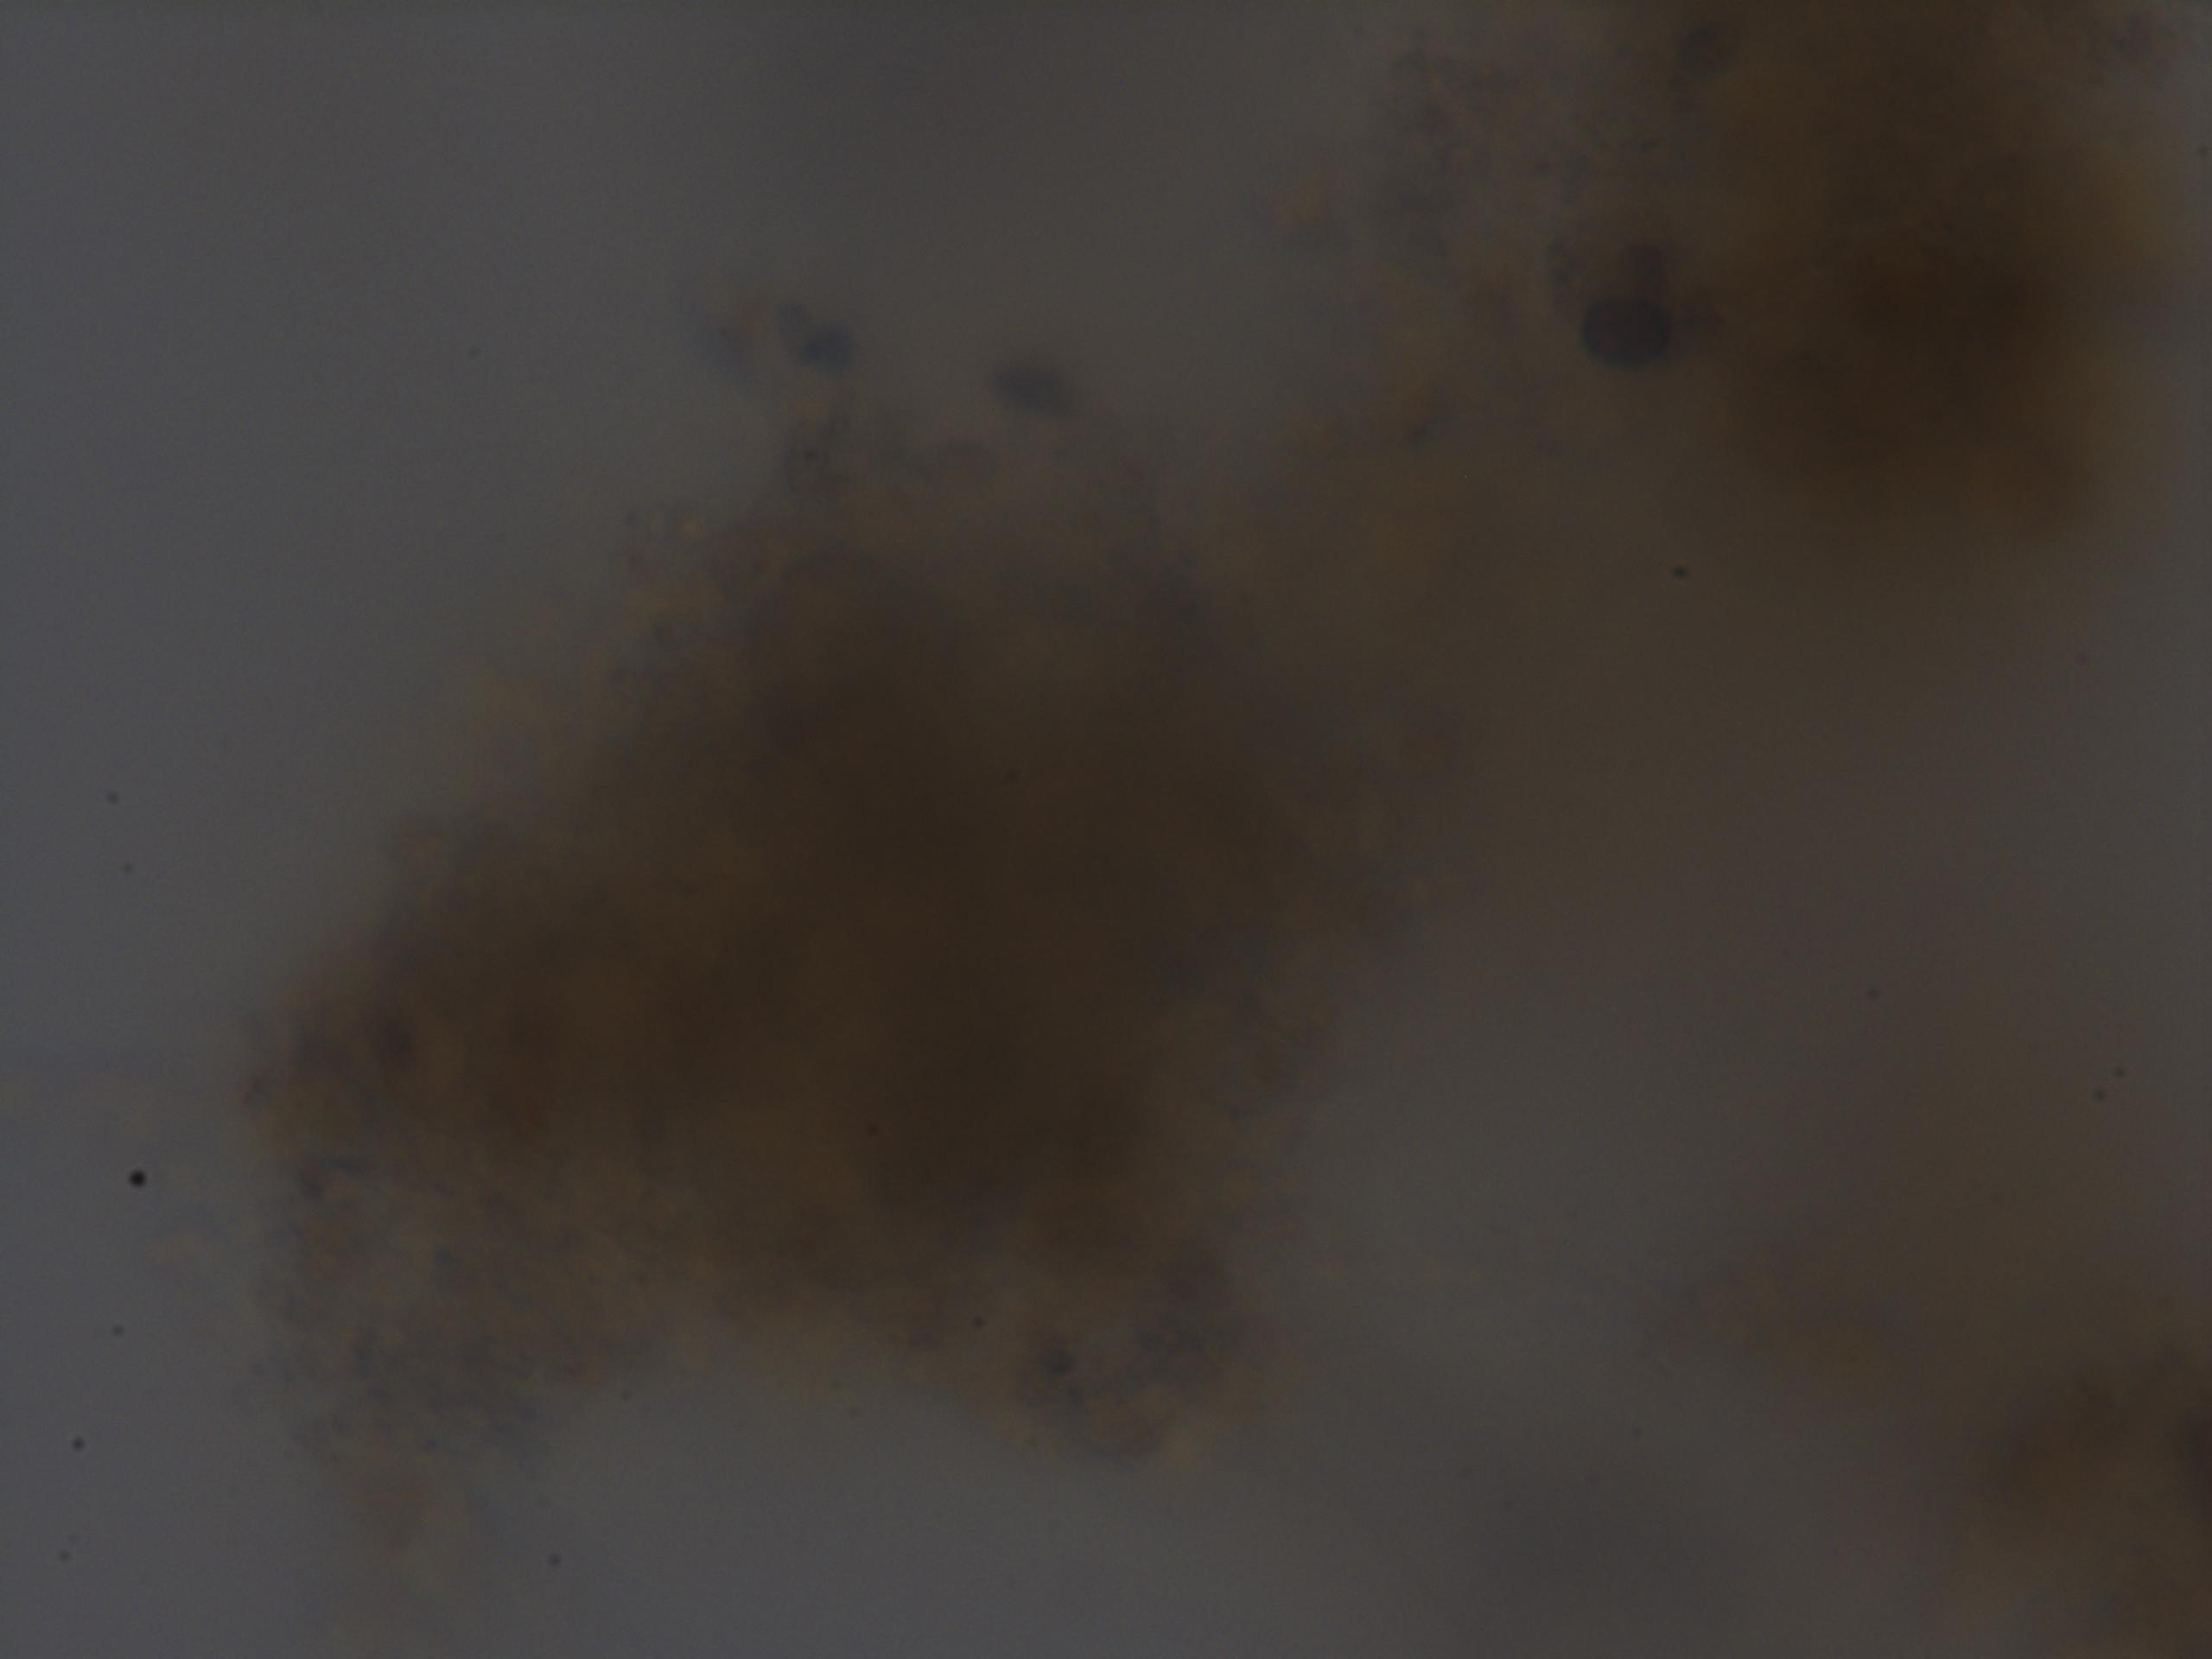spherical_floc: (254, 418, 1454, 1516), (1388, 9, 2212, 566)
